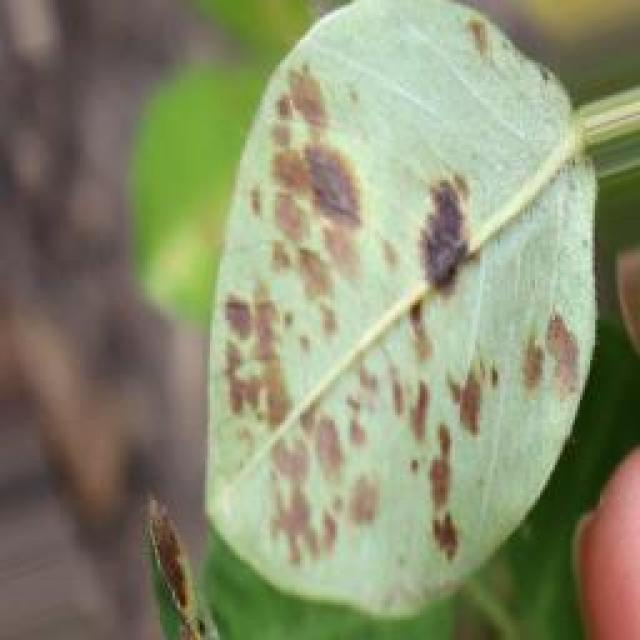Whitefly: (157, 0, 600, 583)
